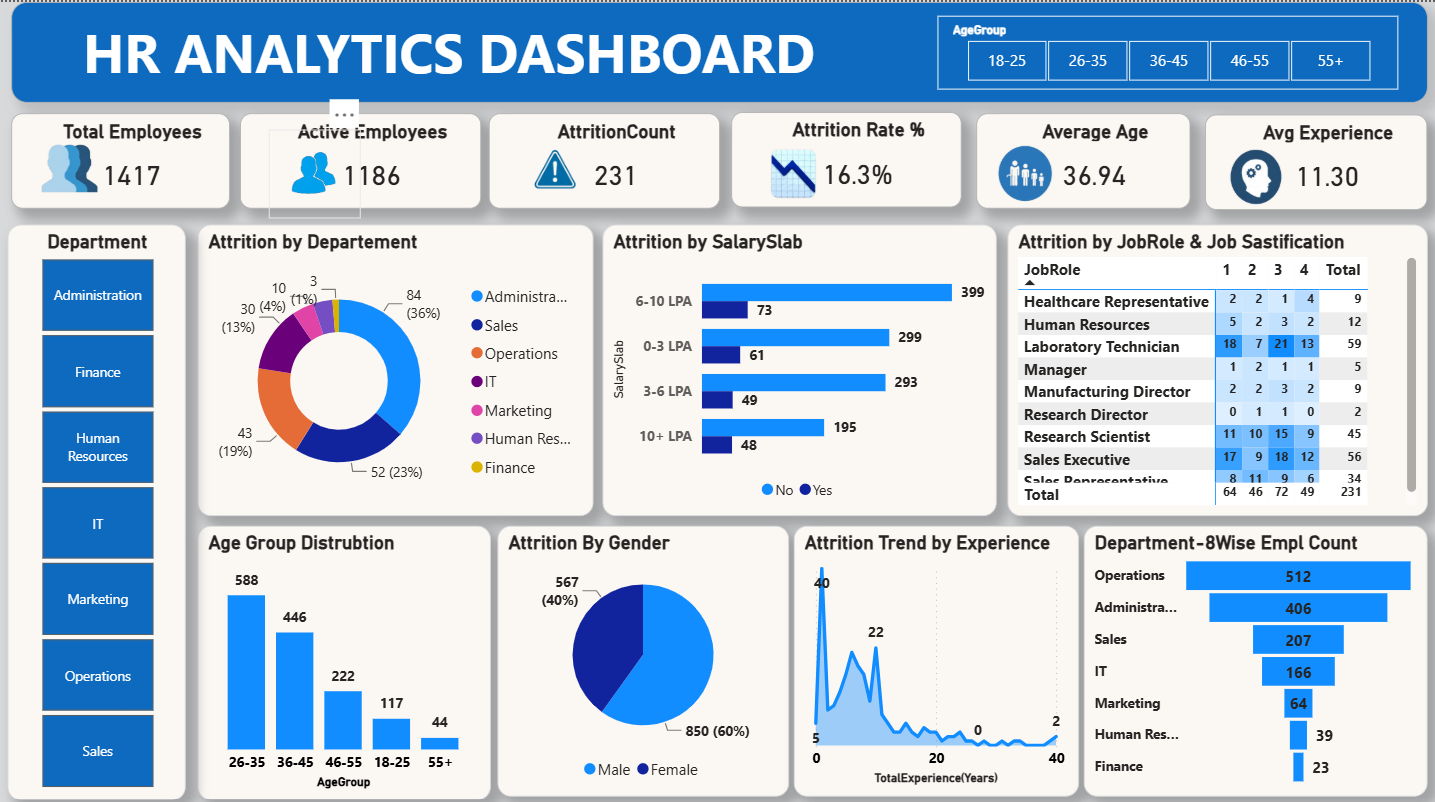

This screenshot's page, from the dashboard's own definition file:
{"tool":"powerbi","page":{"name":"Page 1","canvas":[1280,720],"ordinal":0},"visuals":[{"type":"textbox","title":"HR ANALYTICS DASHBOARD","box":[9.5,0,1259.5,89.3],"z":0},{"type":"card","title":"Total Employees","fields":{"Values":["CountNonNull(HR_Analytics-4.EmpID)"]},"box":[9.5,98.8,194,84.5],"z":1000},{"type":"card","title":"Active Employees","fields":{"Values":["CountNonNull(HR_Analytics-4.EmployeeCount)"]},"box":[213.1,98.8,214.3,84.5],"z":2000},{"type":"card","title":"AttritionCount","fields":{"Values":["Sum(HR_Analytics-4.AttritionCount)"]},"box":[434.5,98.8,206,84.5],"z":3000},{"type":"card","title":"Attrition Rate %","fields":{"Values":["HR_Analytics-4.Attrition Rate"]},"box":[650,97.6,204.8,84.5],"z":4000},{"type":"card","title":"Average Age","fields":{"Values":["Avg(HR_Analytics-4.Age)"]},"box":[867.9,98.8,190.5,84.5],"z":5000},{"type":"card","title":"Avg Experience","fields":{"Values":["Avg(HR_Analytics-4.TotalExperience(Years))"]},"box":[1071.4,100,197.6,84.5],"z":6000},{"type":"image","box":[867.9,116.7,86.9,71.4],"z":7000},{"type":"image","box":[1070.2,119,92.9,72.6],"z":8000},{"type":"image","box":[458.3,122.6,69,54.8],"z":9000},{"type":"image","box":[239.3,113.1,81,78.6],"z":10000},{"type":"image","box":[667.9,120.2,76.2,63.1],"z":11000},{"type":"image","box":[32.1,114.3,59.5,64.3],"z":12000},{"type":"donutChart","title":"Attrition by Departement","fields":{"Category":["HR_Analytics-4.Department"],"Y":["Sum(HR_Analytics-4.AttritionCount)"]},"box":[175,197.6,352.4,259.5],"z":13000},{"type":"clusteredBarChart","title":"Attrition by SalarySlab","fields":{"Category":["HR_Analytics-4.SalarySlab"],"Y":["CountNonNull(HR_Analytics-4.EmpID)"],"Series":["HR_Analytics-4.Attrition"]},"box":[536,197.7,350,259.3],"z":14000},{"type":"pivotTable","title":"Attrition by JobRole & Job Sastification","fields":{"Rows":["HR_Analytics-4.JobRole"],"Values":["Sum(HR_Analytics-4.AttritionCount)"],"Columns":["HR_Analytics-4.JobSatisfaction"]},"box":[895.2,197.6,373.8,259.5],"z":15000},{"type":"columnChart","title":"Age Group Distrubtion","fields":{"Category":["HR_Analytics-4.AgeGroup"],"Y":["Sum(HR_Analytics-4.EmployeeCount)"]},"box":[175,465.5,260.7,244],"z":16000},{"type":"pieChart","title":"Attrition By Gender","fields":{"Y":["Sum(HR_Analytics-4.EmployeeCount)"],"Category":["HR_Analytics-4.Gender"]},"box":[441.7,465.5,259.5,240.5],"z":17000},{"type":"areaChart","title":"Attrition Trend by Experience","fields":{"Category":["HR_Analytics-4.TotalExperience(Years)"],"Y2":["Sum(HR_Analytics-4.AttritionCount)"]},"box":[706,465.5,253.6,240.5],"z":18000},{"type":"funnel","title":"Department-8Wise Empl Count","fields":{"Category":["HR_Analytics-4.Department"],"Y":["CountNonNull(HR_Analytics-4.EmpID)"]},"box":[963.1,465.5,306,240.5],"z":19000},{"type":"slicer","title":"Department","fields":{"Values":["HR_Analytics-4.Department"]},"box":[7.1,197.6,158.3,511.9],"z":20000},{"type":"slicer","fields":{"Values":["HR_Analytics-4.AgeGroup"]},"box":[833.3,11.9,409.5,65.5],"z":21000}]}

Visuals, with their boxes in screenshot pixels (x1, y1, x2, y2), scaled from the page's 1280x720 canvas onto the 1435x802 screenshot:
"HR ANALYTICS DASHBOARD" textbox: crop(11, 0, 1423, 99)
"Total Employees" card: crop(11, 110, 228, 204)
"Active Employees" card: crop(239, 110, 479, 204)
"AttritionCount" card: crop(487, 110, 718, 204)
"Attrition Rate %" card: crop(729, 109, 958, 203)
"Average Age" card: crop(973, 110, 1187, 204)
"Avg Experience" card: crop(1201, 111, 1423, 206)
image: crop(973, 130, 1070, 210)
image: crop(1200, 133, 1304, 213)
image: crop(514, 137, 591, 198)
image: crop(268, 126, 359, 214)
image: crop(749, 134, 834, 204)
image: crop(36, 127, 103, 199)
"Attrition by Departement" donutChart: crop(196, 220, 591, 509)
"Attrition by SalarySlab" clusteredBarChart: crop(601, 220, 993, 509)
"Attrition by JobRole & Job Sastification" pivotTable: crop(1004, 220, 1423, 509)
"Age Group Distrubtion" columnChart: crop(196, 519, 488, 790)
"Attrition By Gender" pieChart: crop(495, 519, 786, 786)
"Attrition Trend by Experience" areaChart: crop(791, 519, 1076, 786)
"Department-8Wise Empl Count" funnel: crop(1080, 519, 1423, 786)
"Department" slicer: crop(8, 220, 185, 790)
slicer - HR_Analytics-4.AgeGroup: crop(934, 13, 1393, 86)
